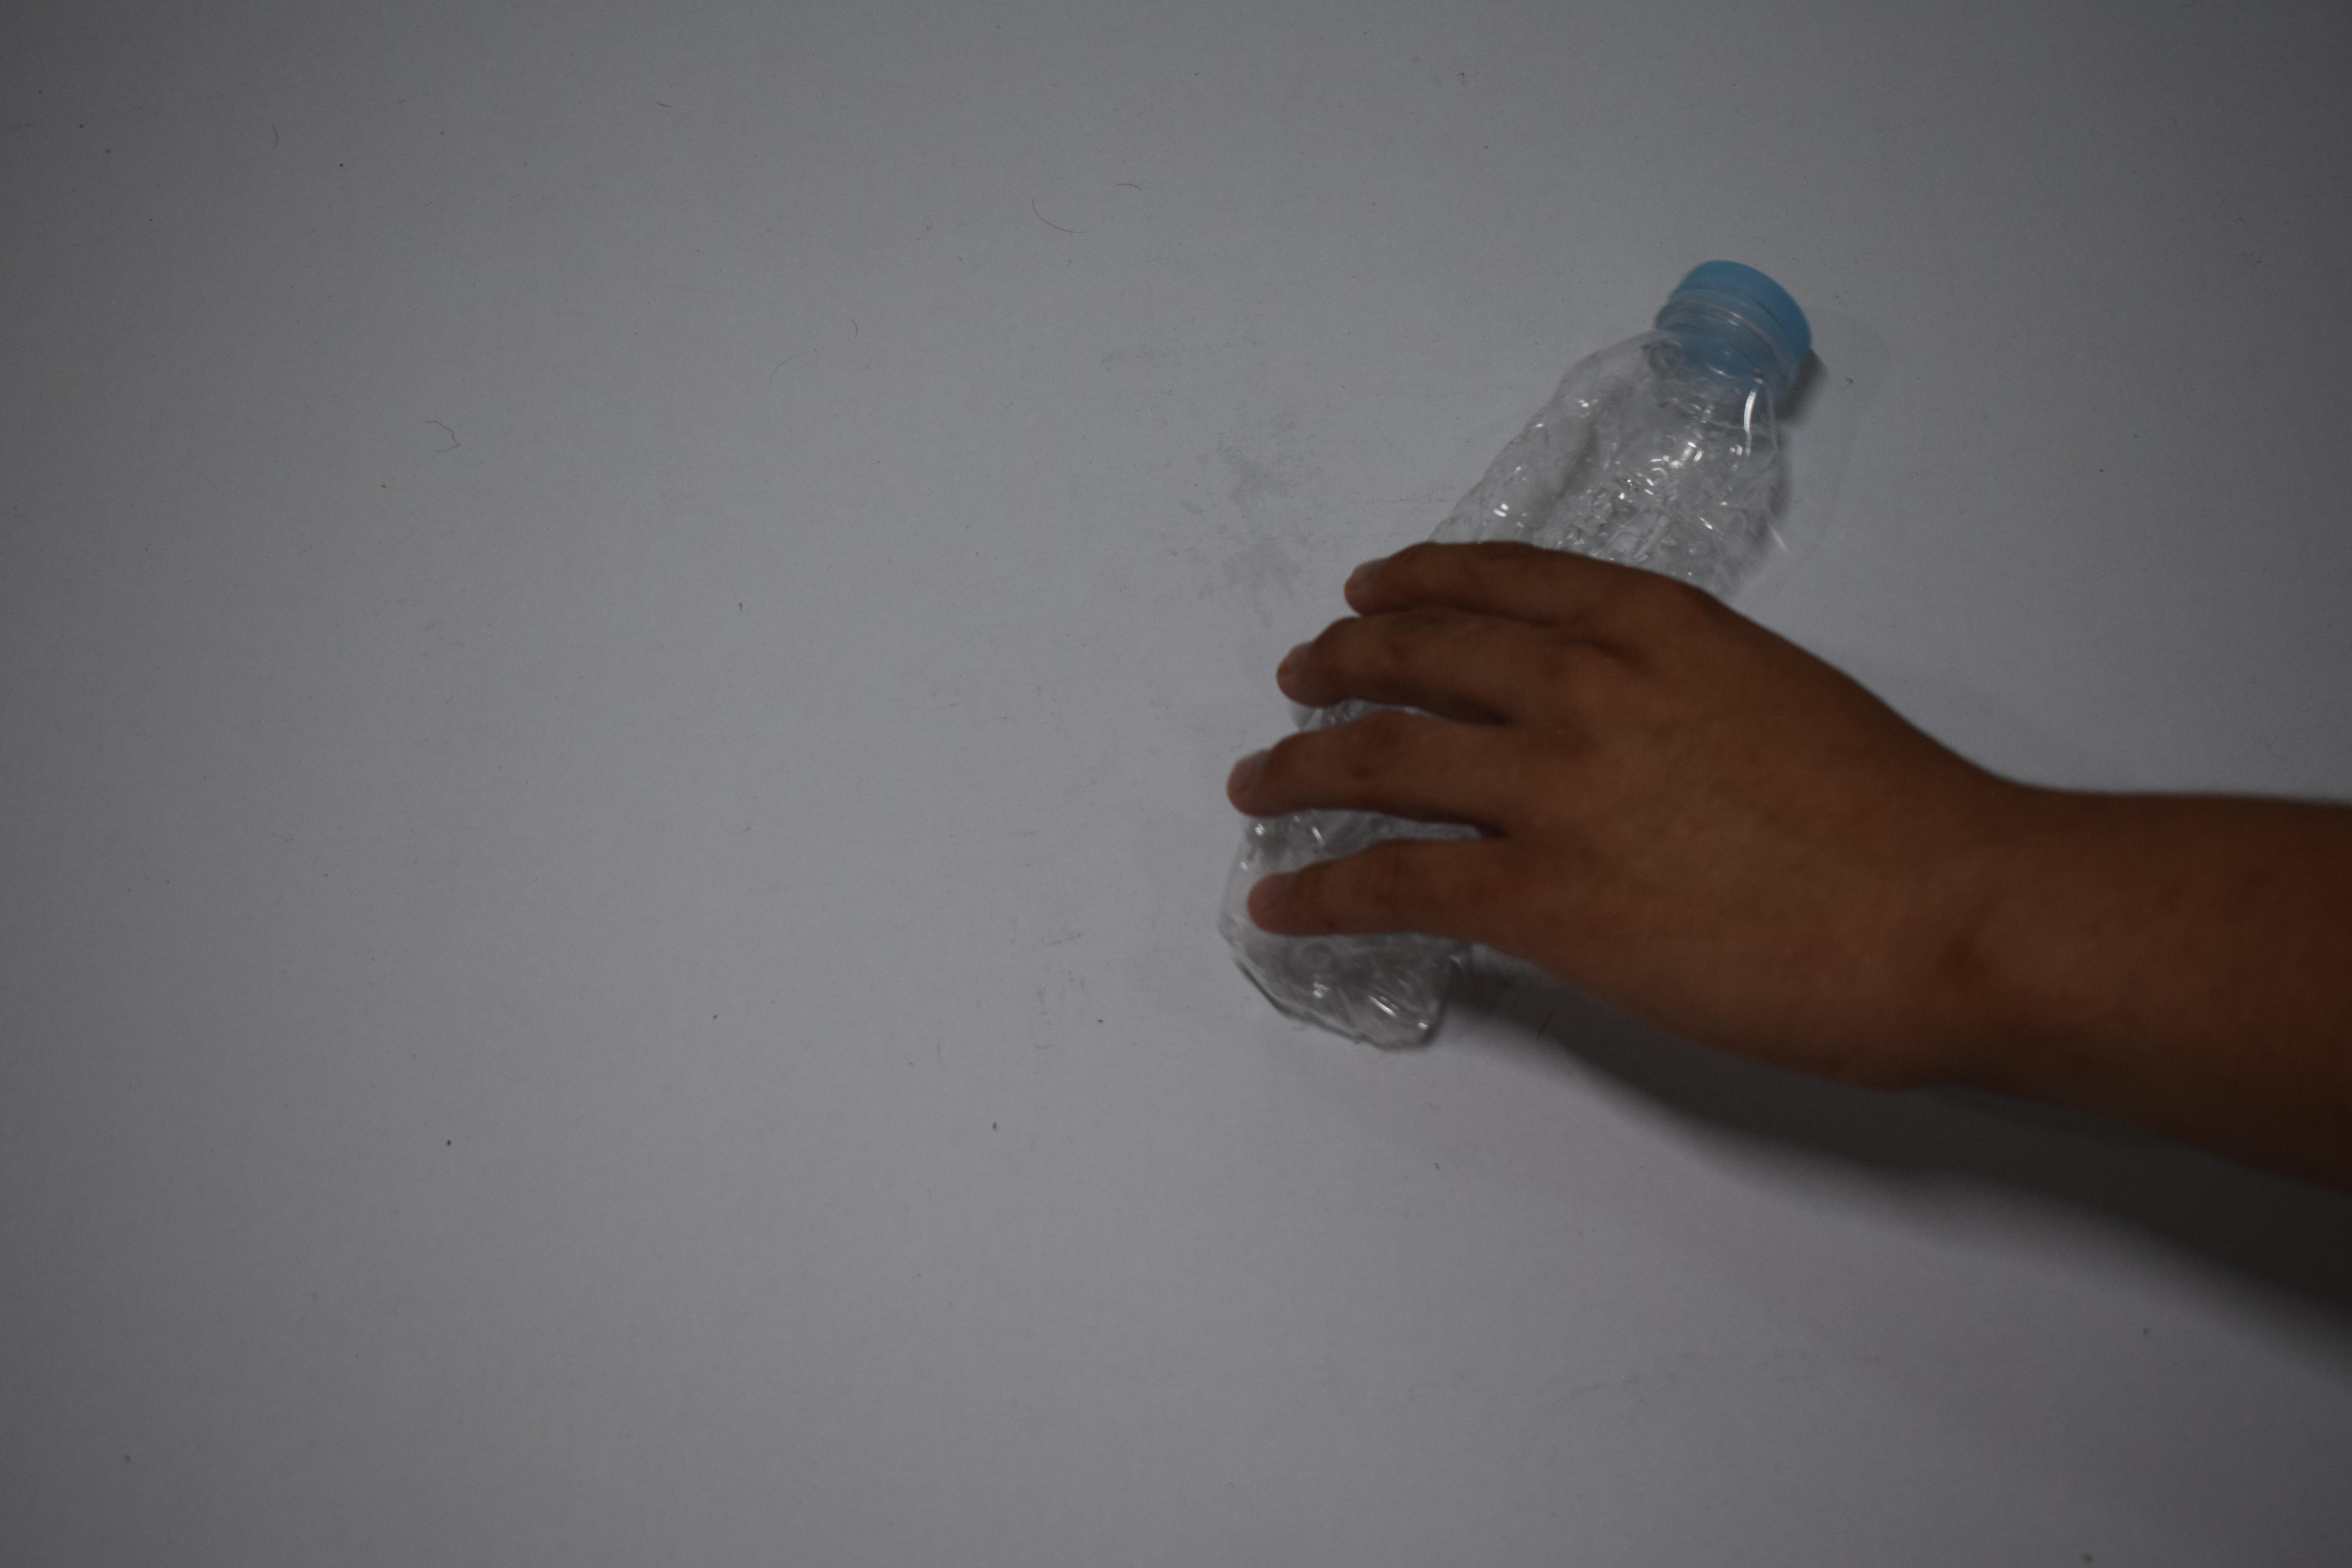bottle: (1281, 644, 1760, 670)
